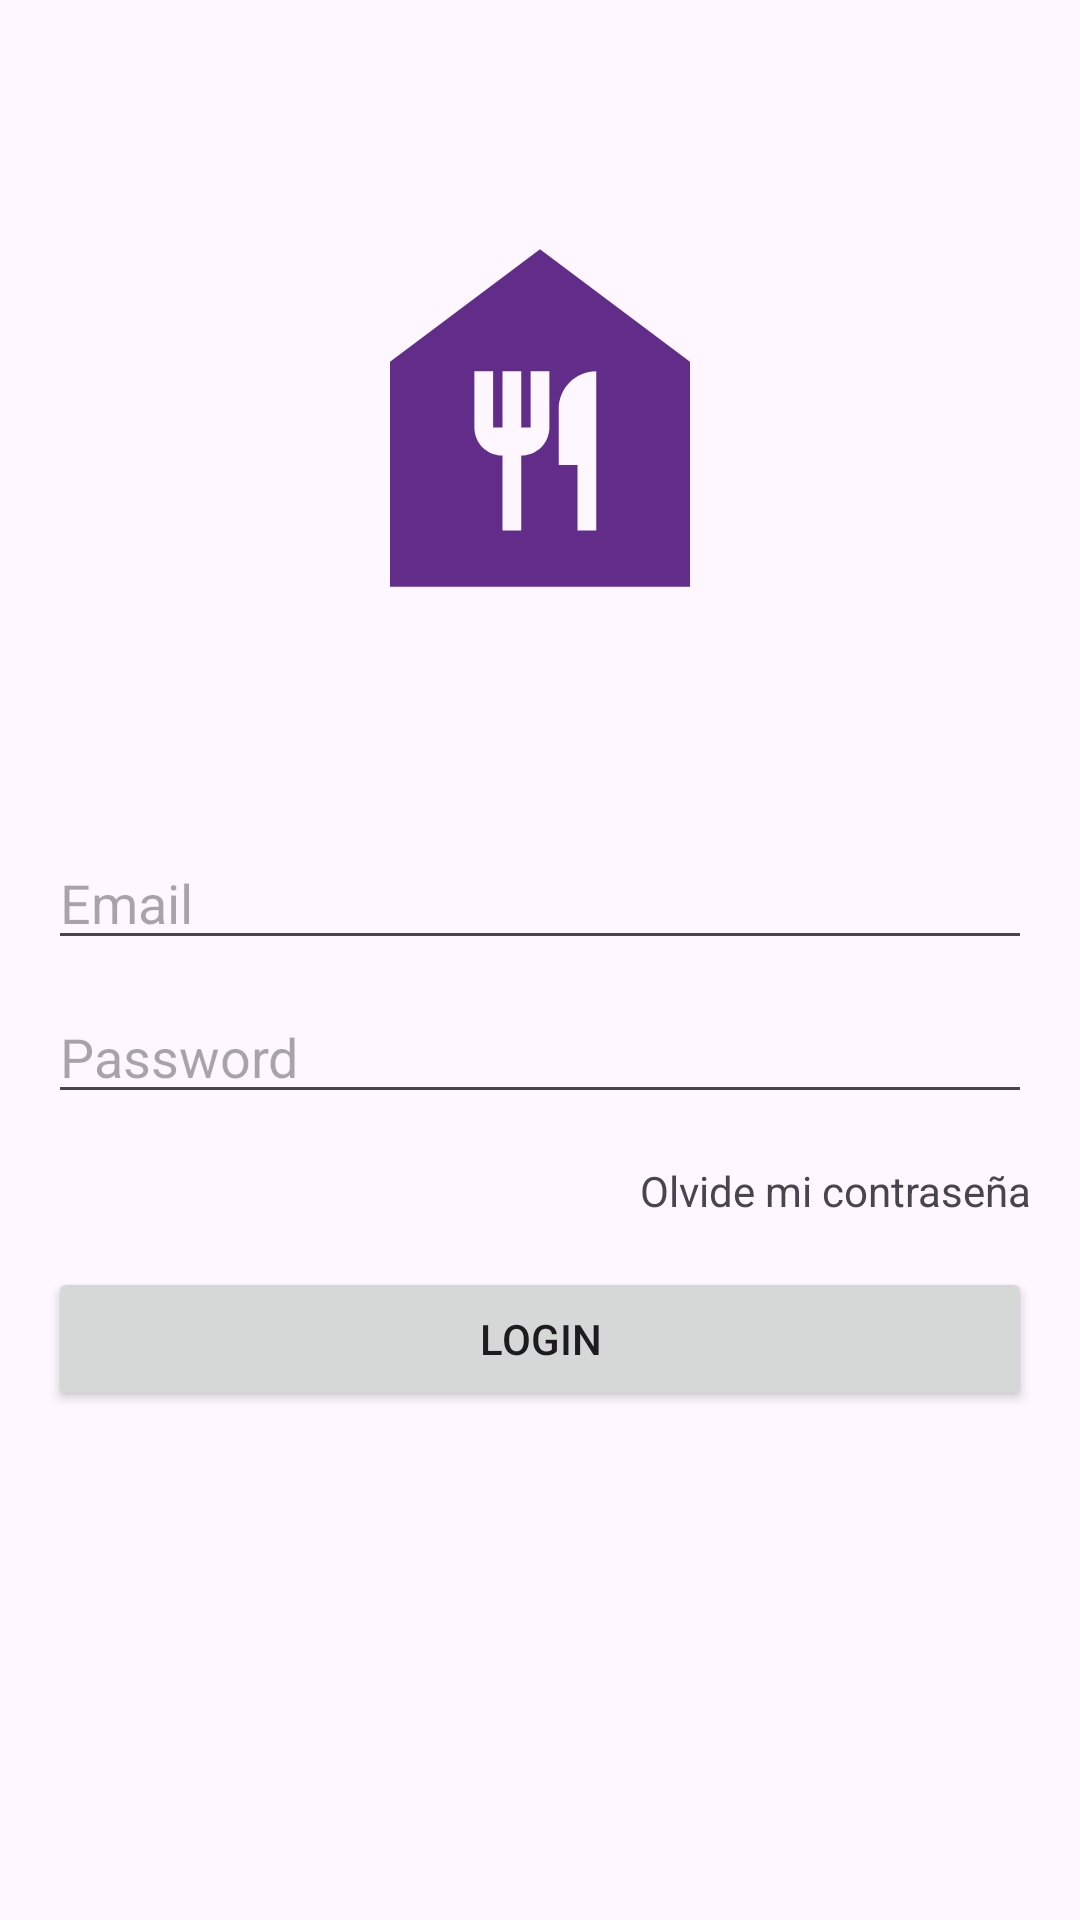

Icon click points for this 1080w x 1920h phone screenshot, format point (x, y):
food bank: point (540, 418)
